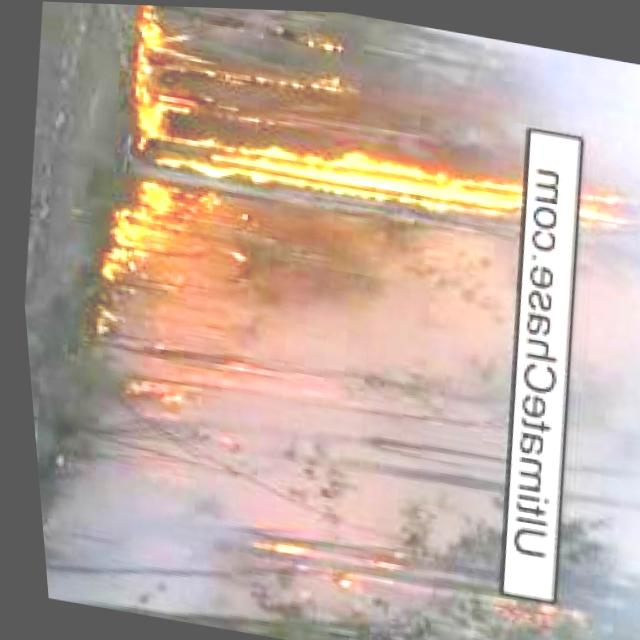helmet: (125, 112, 521, 224), (95, 185, 174, 273), (130, 4, 192, 60)
no_helmet: (19, 304, 342, 640), (284, 212, 534, 640), (516, 50, 640, 609)
